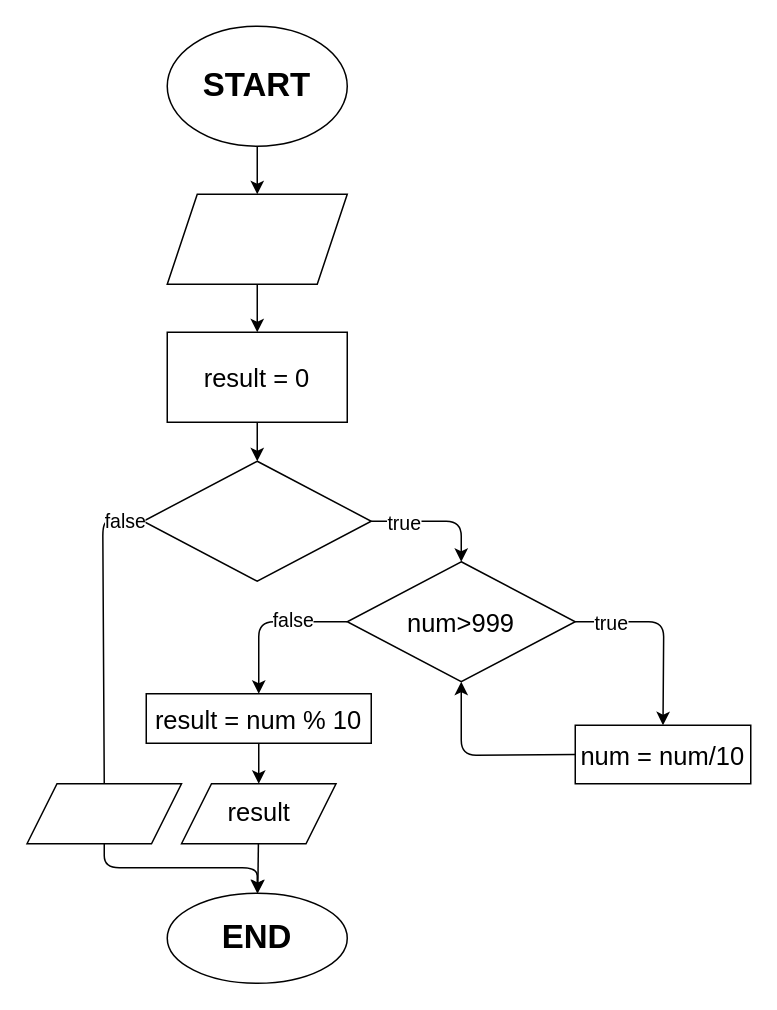
Some shapes in this 777 by 1010 pixel diagram are drawn without their labels. The shapes that lost their labels are listed below. From the top down, each one's box as (x1, y1, x2, y2) in pixels, then its label:
(166, 193, 347, 284): num
(142, 460, 371, 581): num >= 100
(26, 782, 182, 844): Третья цифра отсутствует
